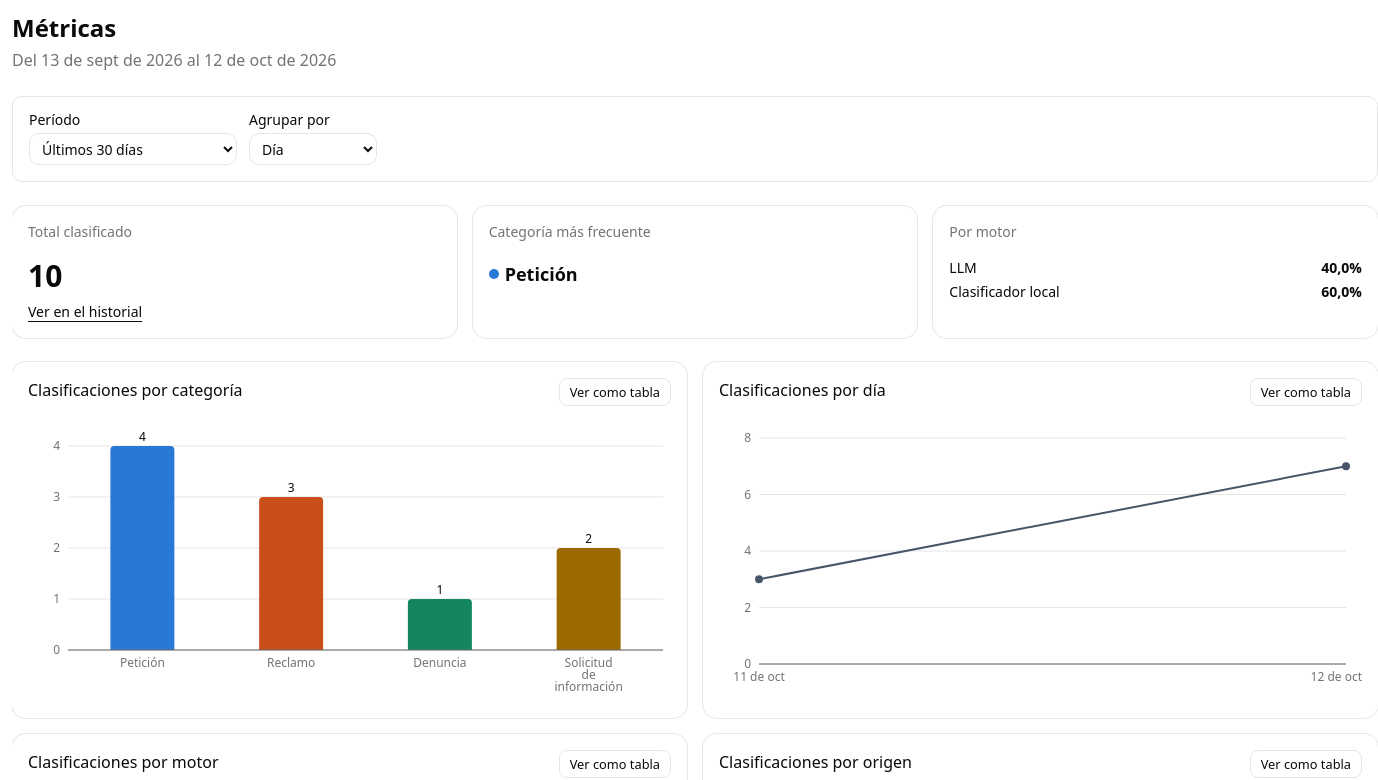
Métricas › el rango personalizado valida las fechas antes de enviar
The width and height of the screenshot is (1378, 780).
Expected: the text "10" is shown, [28, 255, 62, 296]
Step 1. Select "Rango personalizado" in the dropdown labelled "Período" → (133, 149), box [29, 133, 237, 165]
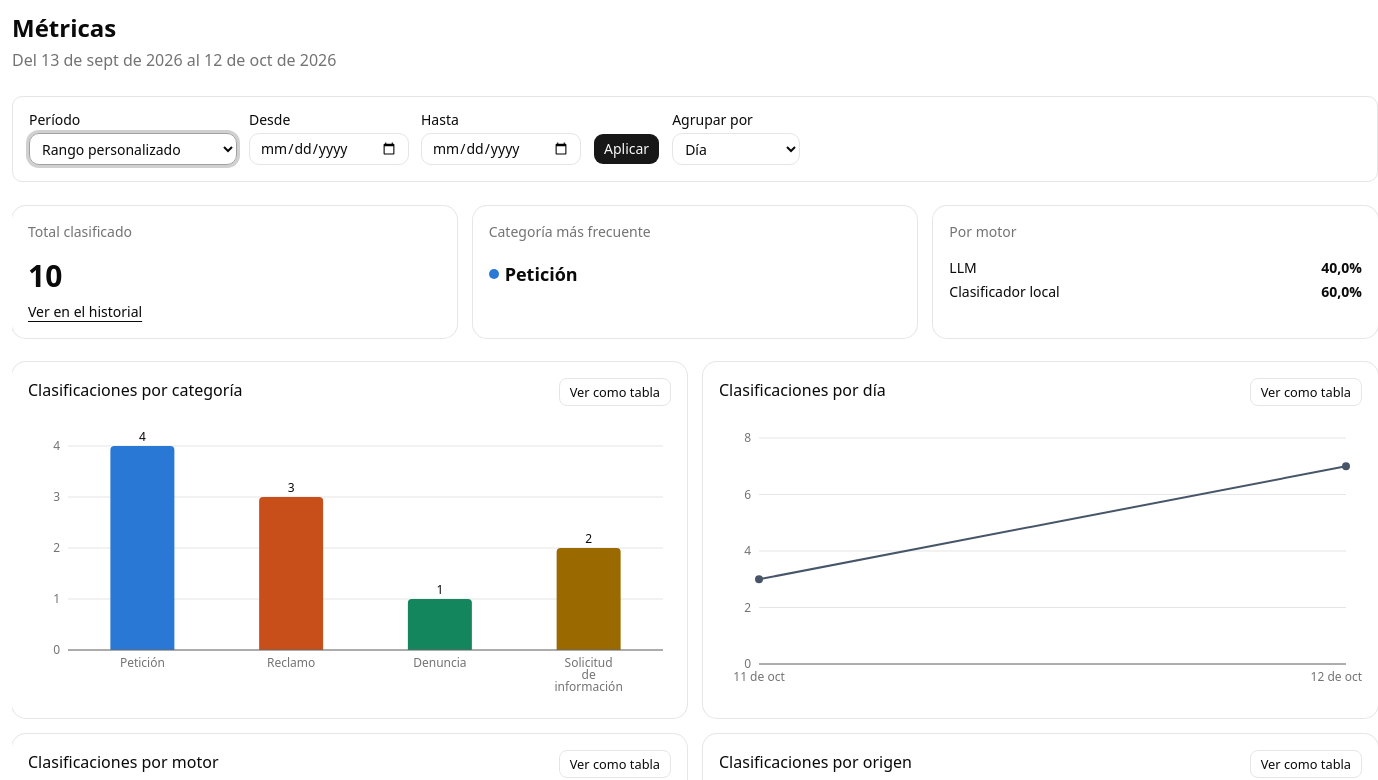
Step 2. Type "2026-10-12" into the date field labelled "Desde" → (329, 149), box [249, 133, 409, 165]
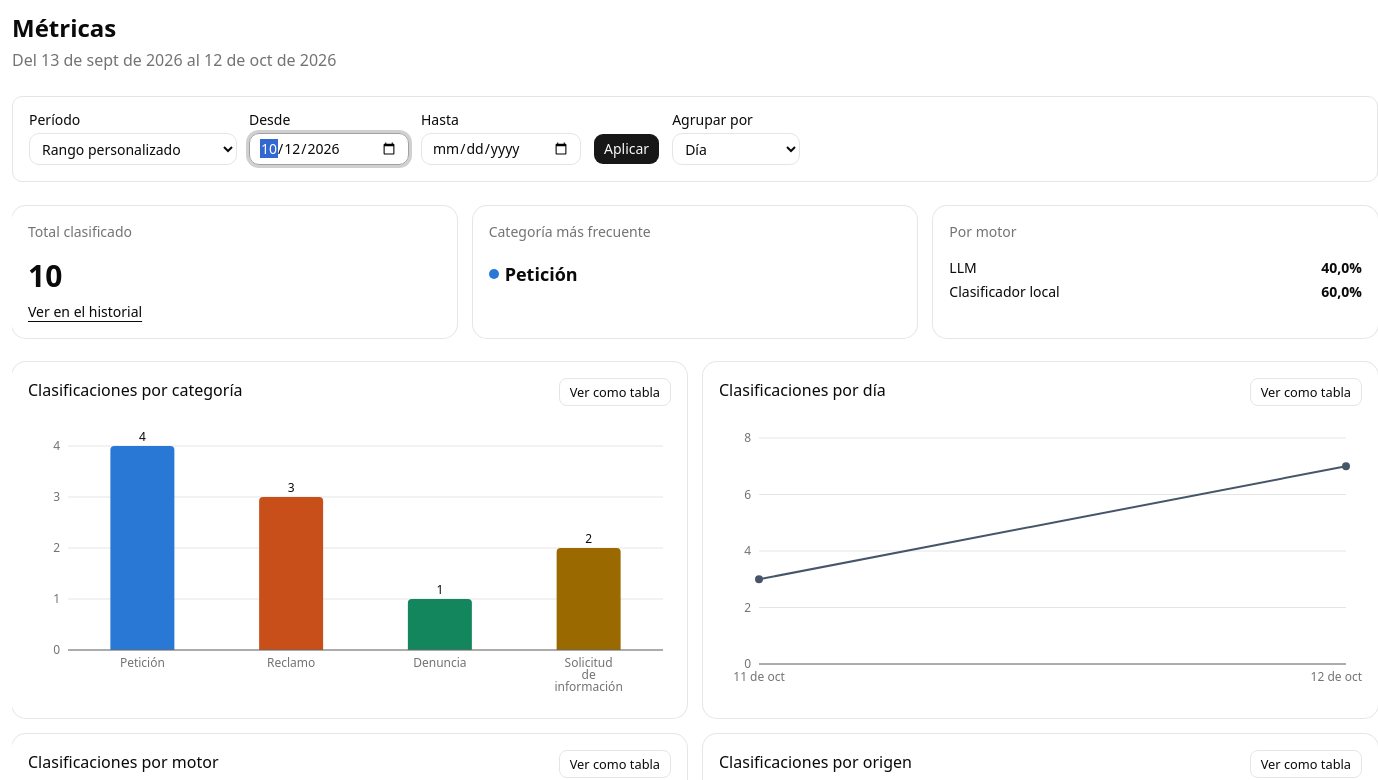
Step 3. Type "2026-10-01" into the date field labelled "Hasta" → (501, 149), box [421, 133, 581, 165]
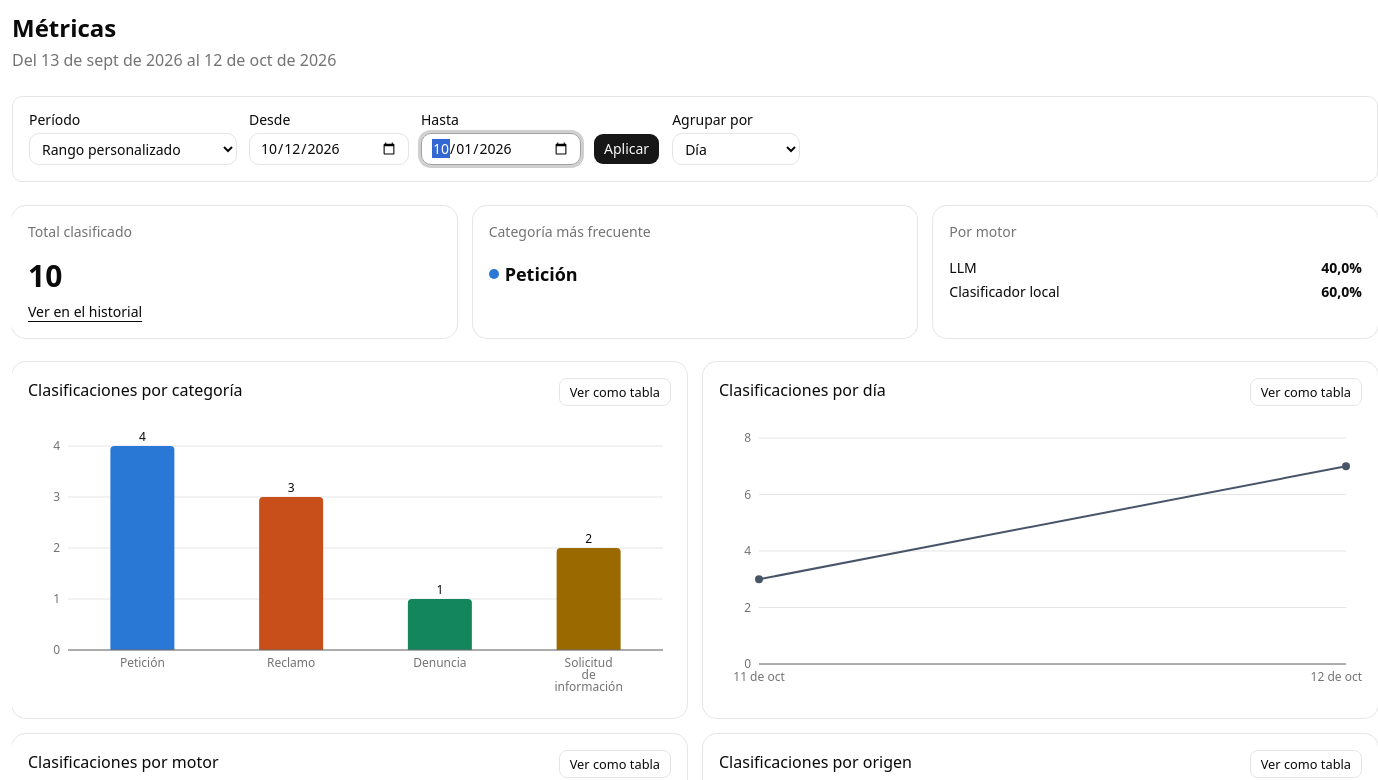
Step 4. Click the button "Aplicar" → click(627, 149), box [593, 133, 660, 165]
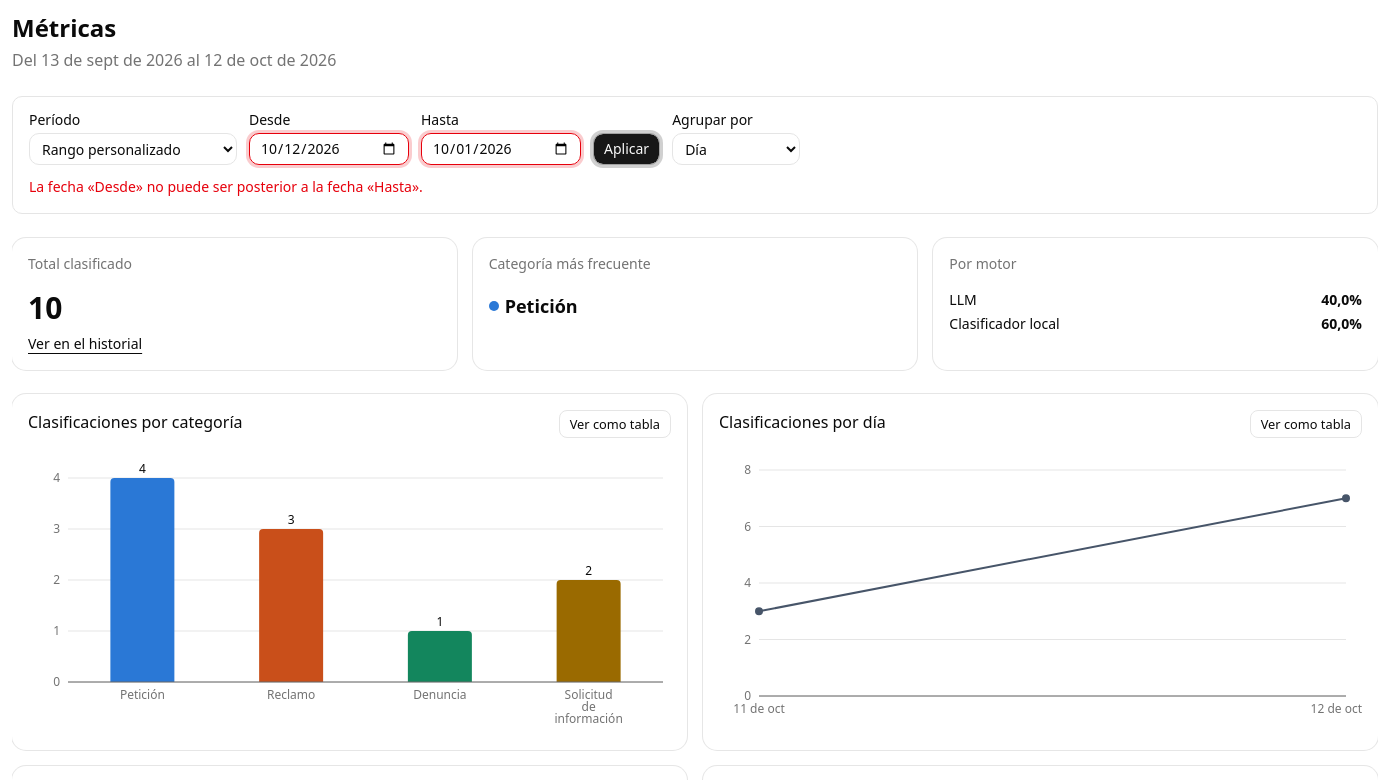
Expected: the message shows "no puede ser posterior", [29, 177, 423, 196]
